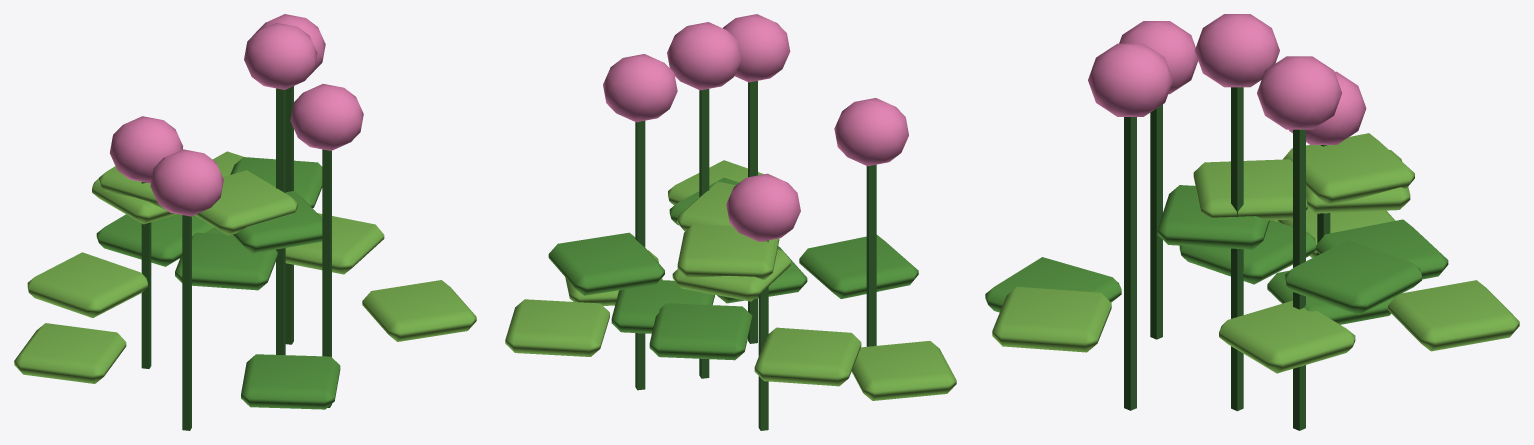
Rendered from buisson_prairie_3.glb.
The picture shows the model from 3 angles, left to right: view 1: azimuth 30°, elevation 25°; view 2: azimuth 150°, elevation 25°; view 3: azimuth 270°, elevation 25°; orthographic projection. The views are drawn at different scales.
Parts seen in each view (by area): view 1: trefle_feuille_claire.002, trefle_feuille.002, trefle_rose.002, trefle_feuille_sombre.002; view 2: trefle_feuille_claire.002, trefle_feuille.002, trefle_rose.002, trefle_feuille_sombre.002; view 3: trefle_feuille_claire.002, trefle_feuille.002, trefle_rose.002, trefle_feuille_sombre.002.
Part boxes in pixels (x1=…): trefle_feuille_claire.002: x1=14, y1=151, x2=476, y2=383; trefle_feuille.002: x1=96, y1=157, x2=340, y2=409; trefle_rose.002: x1=110, y1=14, x2=363, y2=216; trefle_feuille_sombre.002: x1=141, y1=86, x2=331, y2=430; trefle_feuille_claire.002: x1=505, y1=160, x2=956, y2=400; trefle_feuille.002: x1=548, y1=177, x2=918, y2=360; trefle_rose.002: x1=603, y1=14, x2=908, y2=241; trefle_feuille_sombre.002: x1=635, y1=81, x2=876, y2=430; trefle_feuille_claire.002: x1=992, y1=133, x2=1519, y2=373; trefle_feuille.002: x1=985, y1=185, x2=1448, y2=324; trefle_rose.002: x1=1088, y1=14, x2=1366, y2=144; trefle_feuille_sombre.002: x1=1124, y1=87, x2=1330, y2=430.
Bounding box in the file's own units: 0.4583 × 0.405 × 0.5003.
